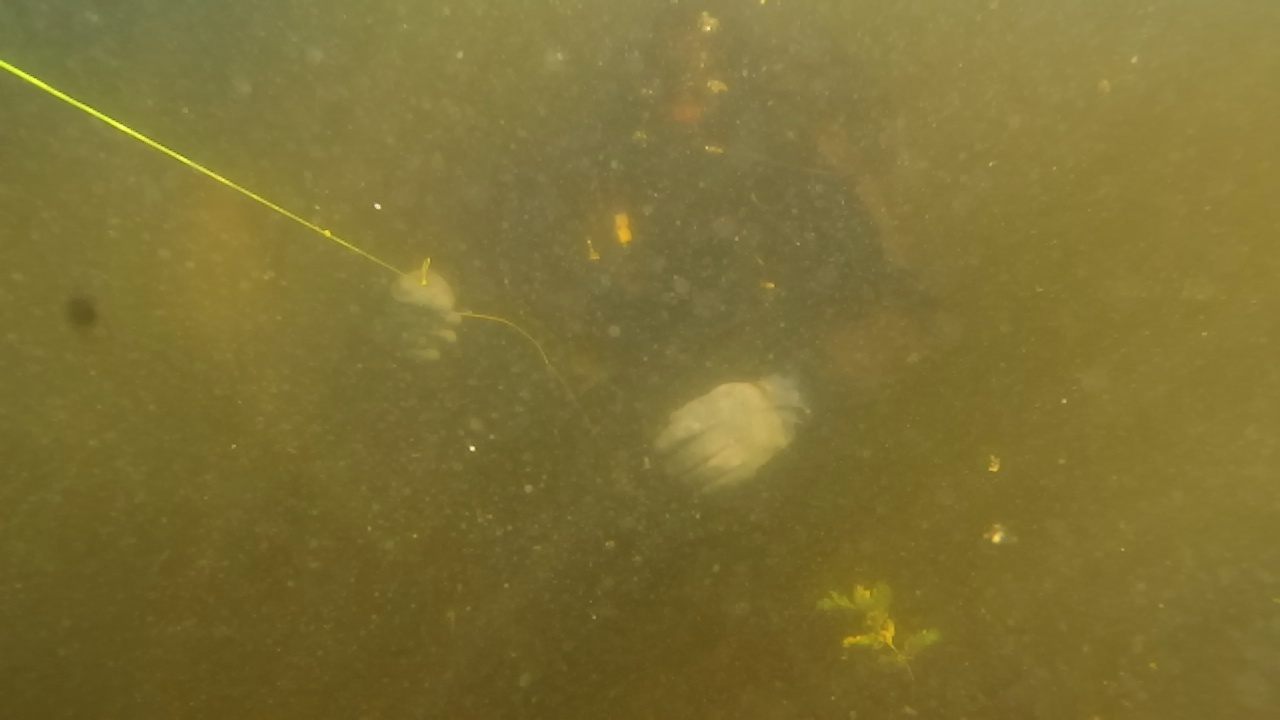Diver: (314, 0, 1090, 678)
Hand: (620, 308, 874, 536), (590, 8, 798, 186), (358, 220, 478, 394)
